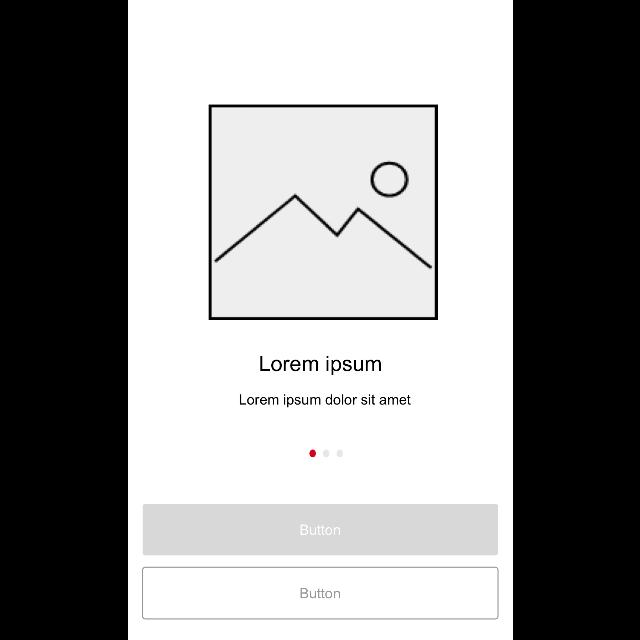image: (207, 104, 437, 320)
pageindicator: (308, 449, 342, 457)
text: (238, 394, 410, 408), (260, 355, 380, 375)
textbutton: (142, 566, 498, 620), (142, 504, 498, 556)
